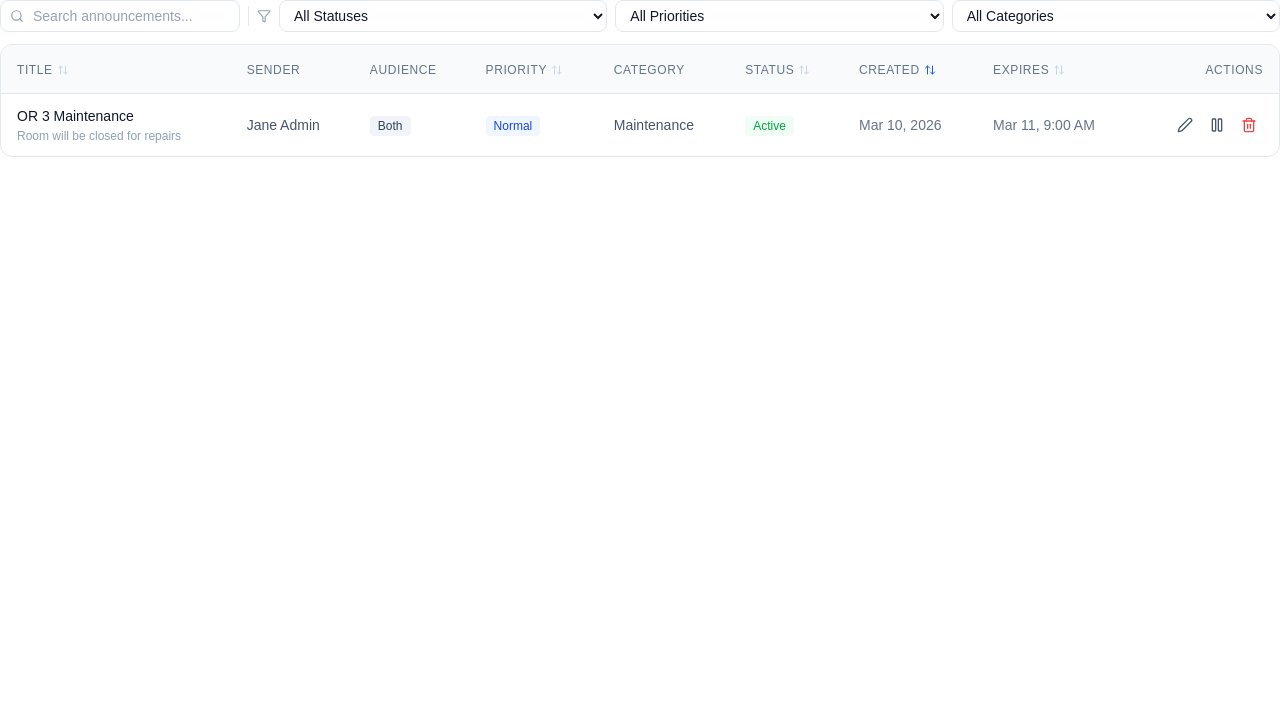
Test: AnnouncementHistoryTable › row actions › shows confirm dialog when delete clicked
Click the button named "Delete announcement".
click(1249, 125)  # box [1235,111,1263,139]
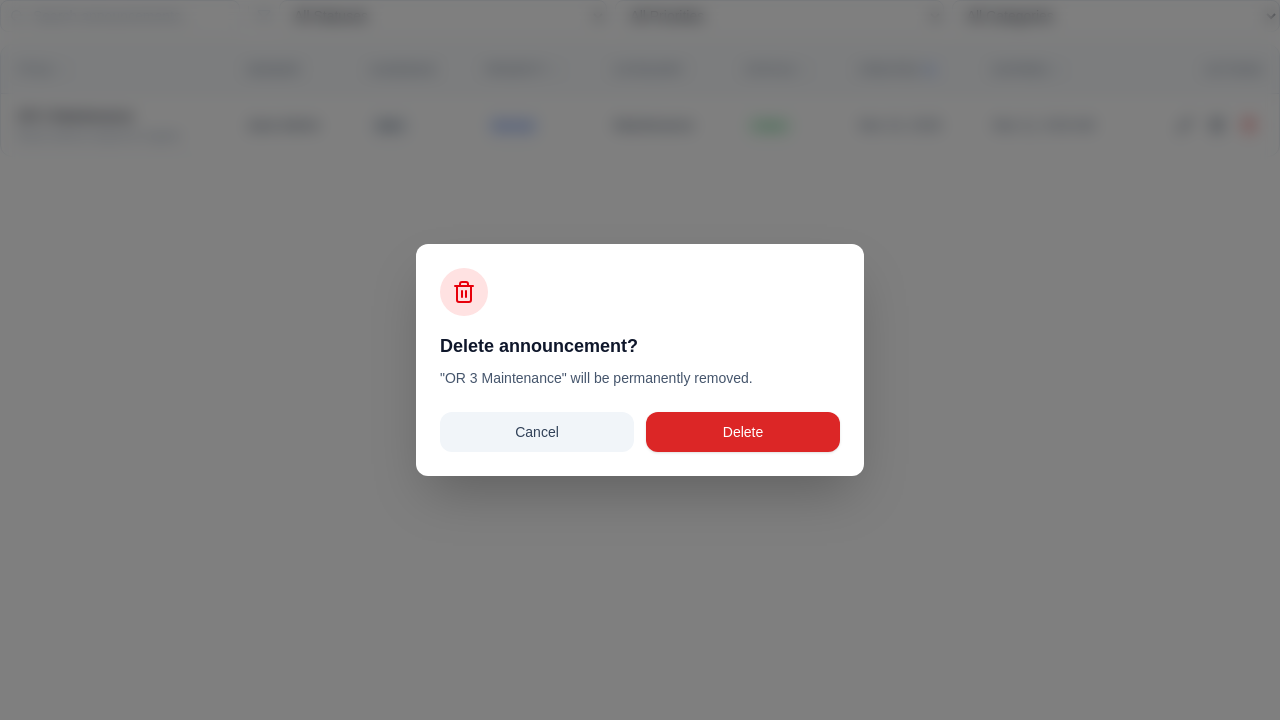
Expected: the heading "Delete announcement?" is shown, [440,336,638,356]
